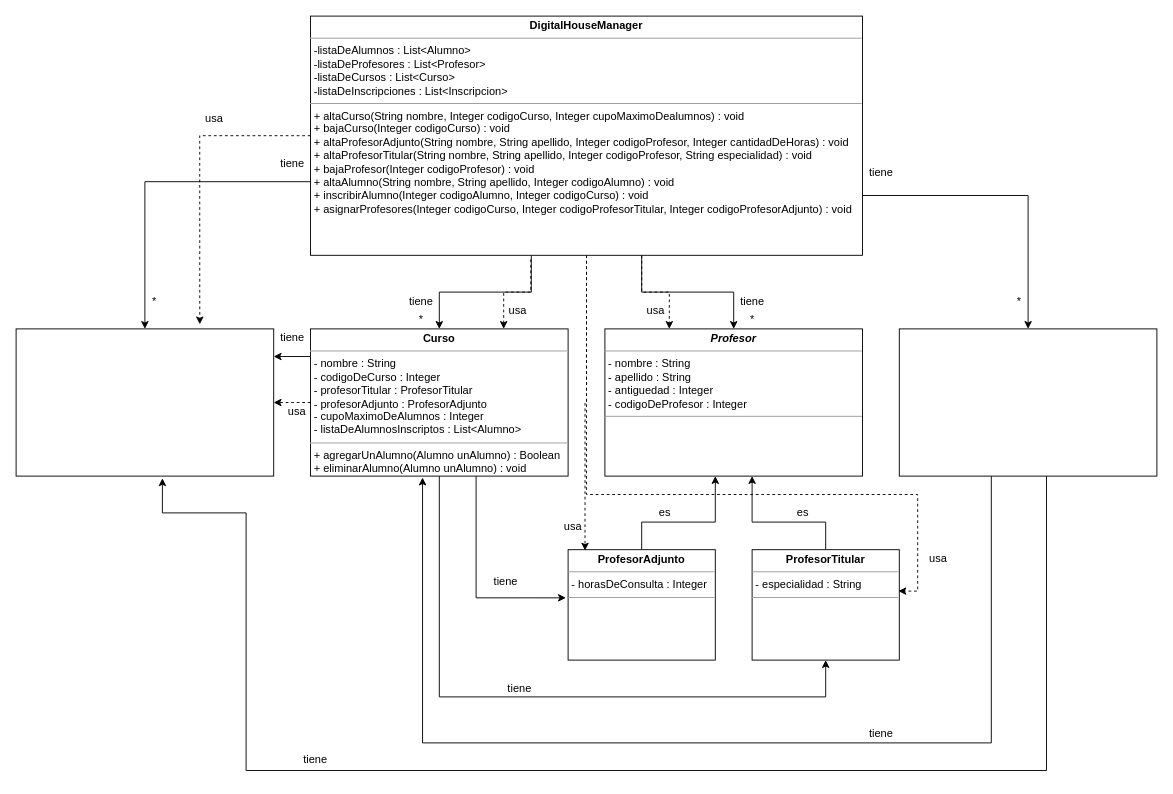
Some shapes in this 1173 by 794 pixel diagram are drawn without their labels. Each missing label, with the centre of its shape:
"Alumno - nombre : String - apellido: String - codigoDeAlumno : Integer" goes at (x=144, y=402).
"Inscripcion - alumno : Alumno - curso : Curso - fechaDeInscripcion : Date" goes at (x=1027, y=402).
